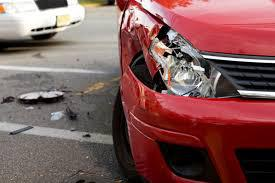Headlight-Damage: (142, 22, 227, 107)
